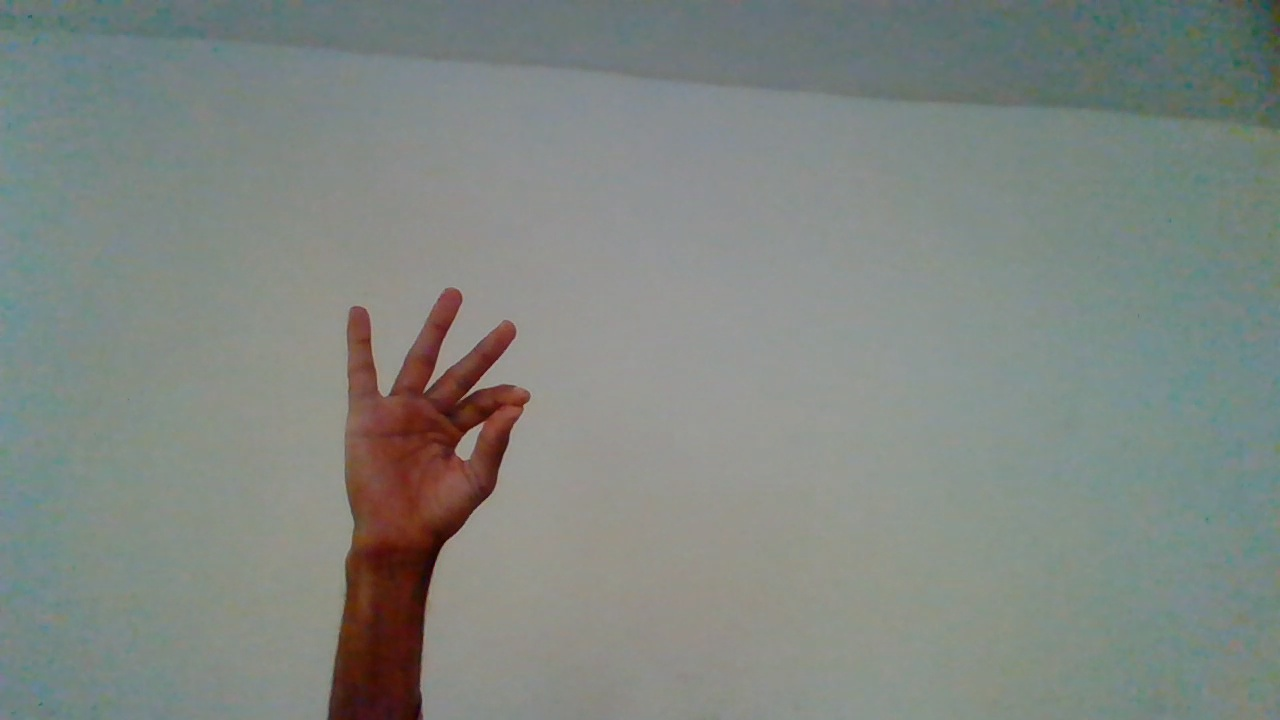le: (347, 287, 530, 691)
